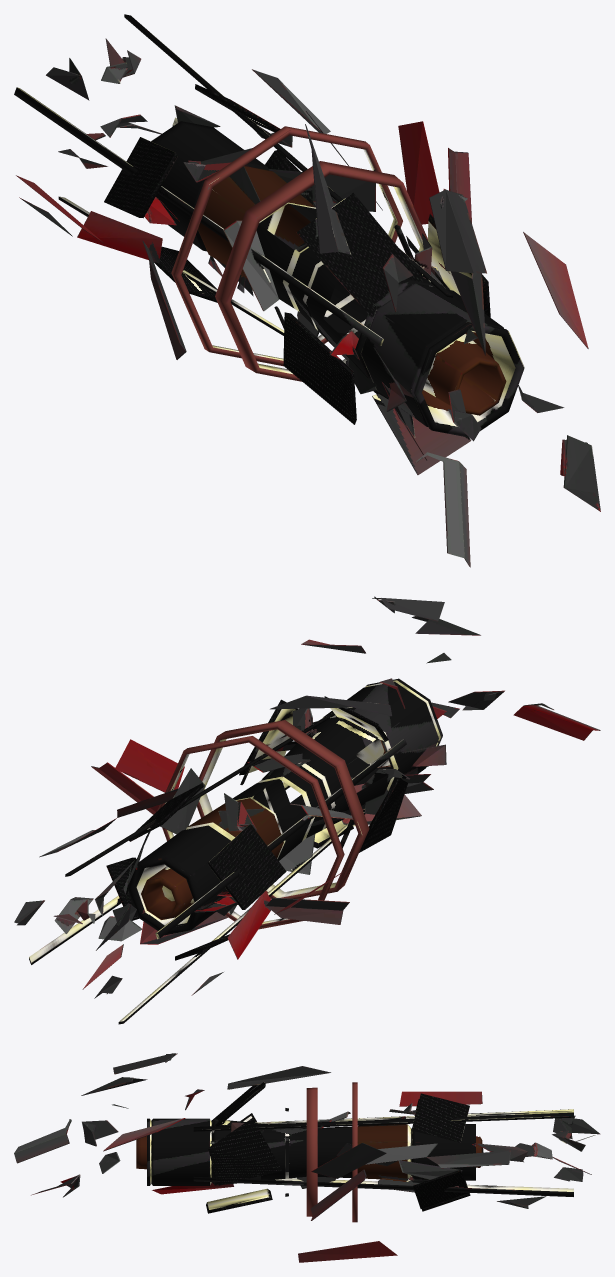
Rendered from tfpa_01_empty_02.obj.
3 views of the same model, one above another, from view 1: azimuth 30°, elevation 25°; view 2: azimuth 150°, elevation 25°; view 3: azimuth 270°, elevation 25° (orthographic). The views are drawn at different scales.
Visible parts, largest first — view 1: Cylinder.002; view 2: Cylinder.002; view 3: Cylinder.002.
Boxes of the visible parts, x1=… form: Cylinder.002: x1=14, y1=14, x2=600, y2=567; Cylinder.002: x1=14, y1=596, x2=600, y2=1024; Cylinder.002: x1=14, y1=1053, x2=600, y2=1262.
Bounding box in the file's own units: 7e-06 × 6.31e-06 × 1.78e-05.
